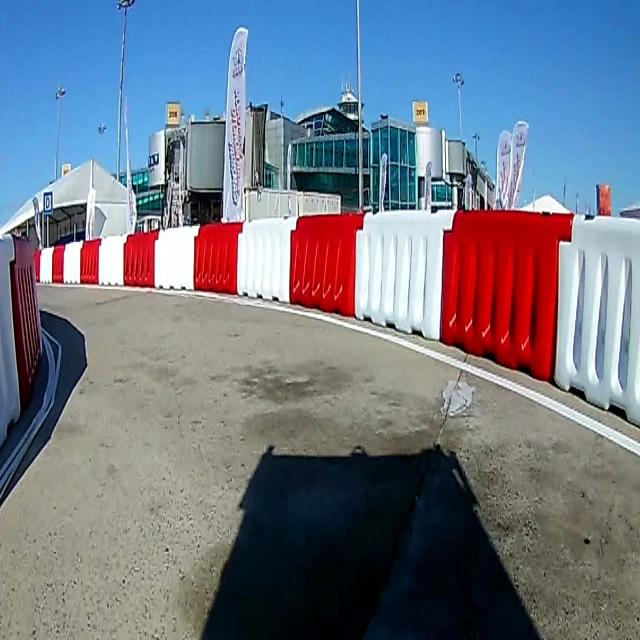durak: (43, 191, 53, 214)
